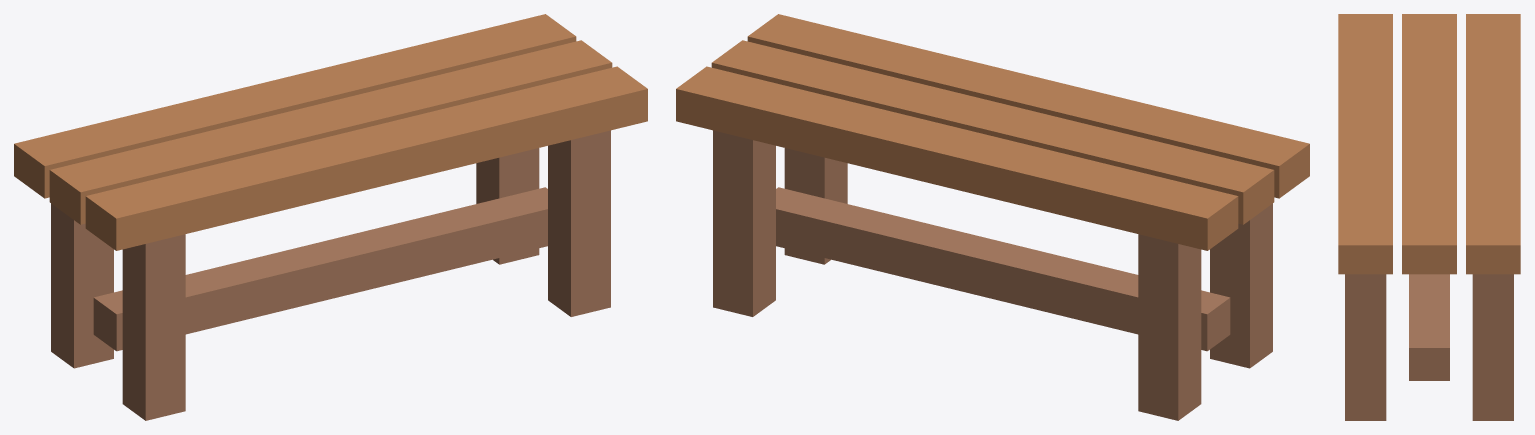
Rendered from bench.glb.
The picture shows the model from 3 angles, left to right: view 1: azimuth 30°, elevation 25°; view 2: azimuth 150°, elevation 25°; view 3: azimuth 270°, elevation 25°; orthographic projection. The views are drawn at different scales.
Size of the model in its own units: 1.2 by 0.46 by 0.4.
